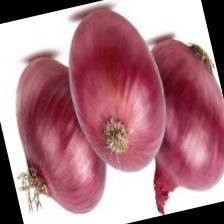onion: (52, 0, 179, 182), (0, 46, 116, 224), (120, 28, 224, 216)
